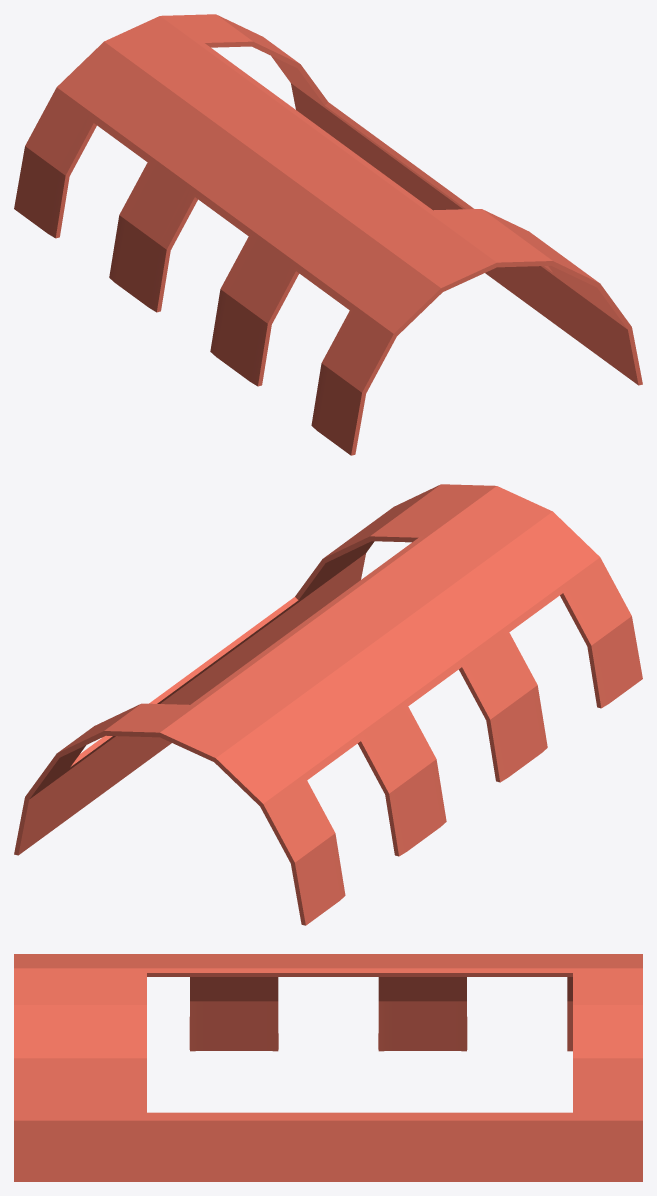
Rendered from SM_station.glb.
3 views of the same model, one above another, from view 1: azimuth 30°, elevation 25°; view 2: azimuth 150°, elevation 25°; view 3: azimuth 270°, elevation 25° (orthographic). The views are drawn at different scales.
Visible parts, largest first — view 1: SM_station; view 2: SM_station; view 3: SM_station.
Boxes of the visible parts, x1,y1,x2,y2 form: SM_station: (14, 14, 642, 455); SM_station: (14, 484, 642, 925); SM_station: (14, 954, 642, 1181).
Bounding box in the file's own units: 6 × 3.09 × 12.
Materials: 1 (1 with a texture image).
